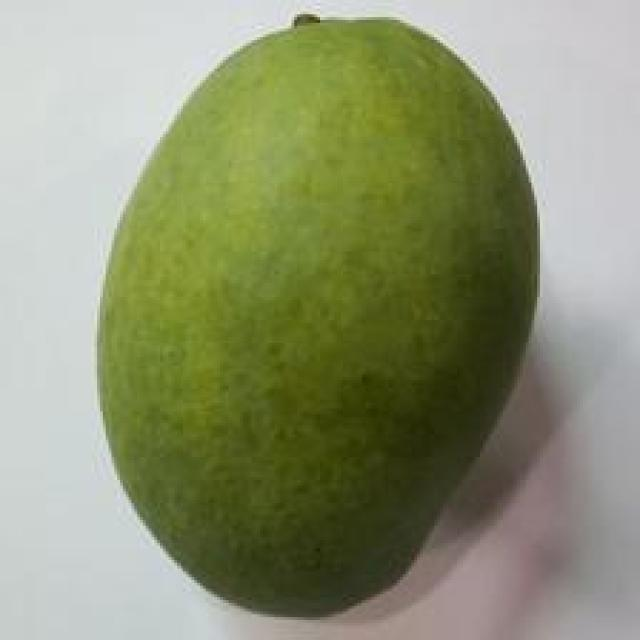Good_Mango: (94, 14, 543, 623)
